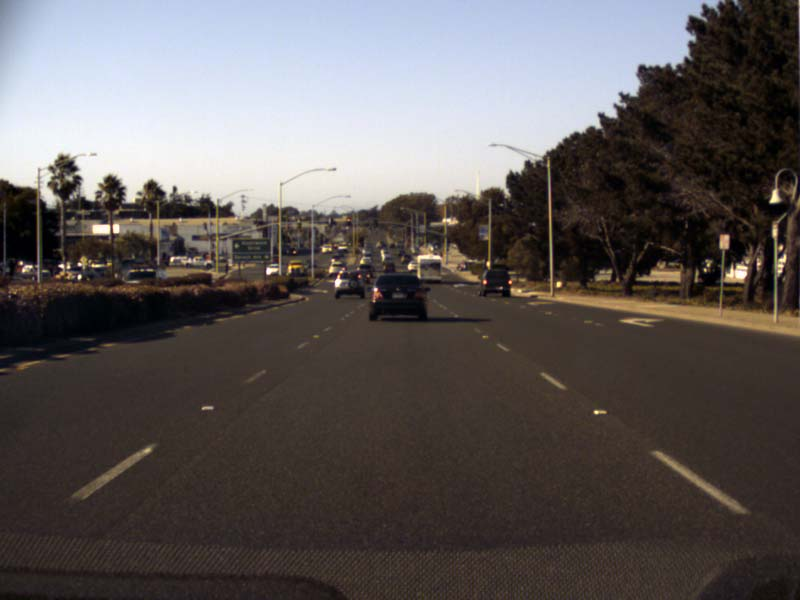Red: (346, 217, 350, 225)
